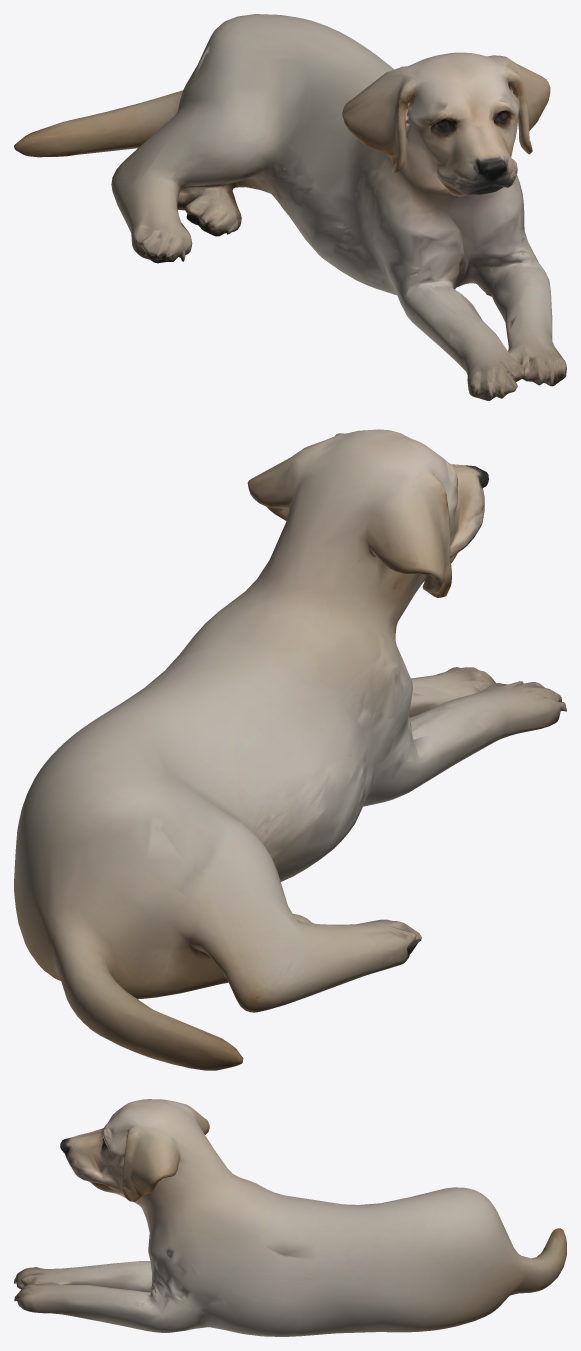
File: dog.glb
The picture shows the model from 3 angles, top to bottom: view 1: azimuth 30°, elevation 25°; view 2: azimuth 150°, elevation 25°; view 3: azimuth 270°, elevation 25°; orthographic projection. The views are drawn at different scales.
Visible parts, largest first — view 1: node_0; view 2: node_0; view 3: node_0.
Boxes of the visible parts, x1,y1,x2,y2 form: node_0: [14, 14, 566, 400]; node_0: [14, 429, 566, 1070]; node_0: [14, 1099, 566, 1336].
Bounding box in the file's own units: 0.4717 × 0.4253 × 1.07.
1 material, 1 textured.
